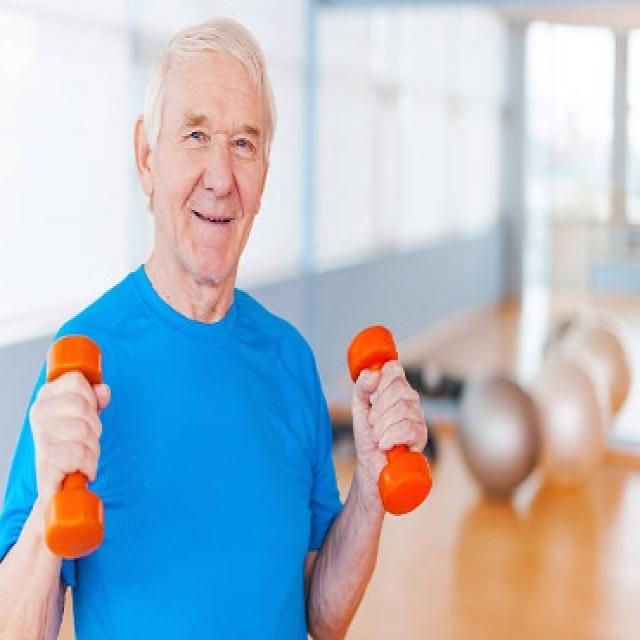adult: (0, 13, 419, 640)
